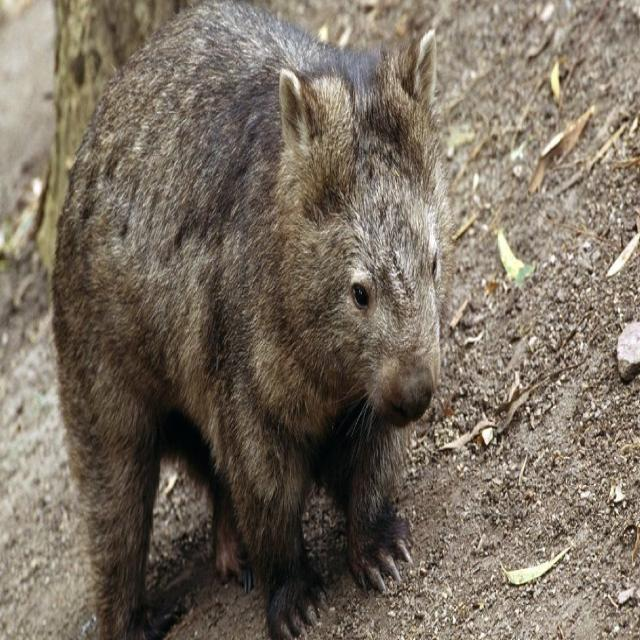Wombat: (46, 7, 448, 620)
